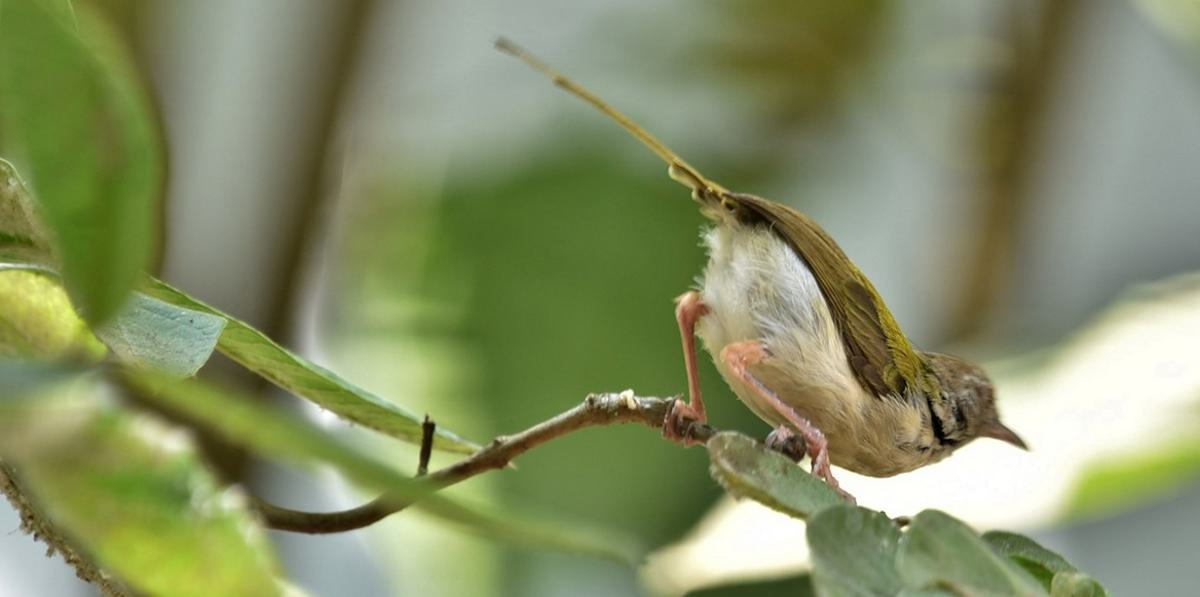tailorbird: (529, 32, 1033, 505)
